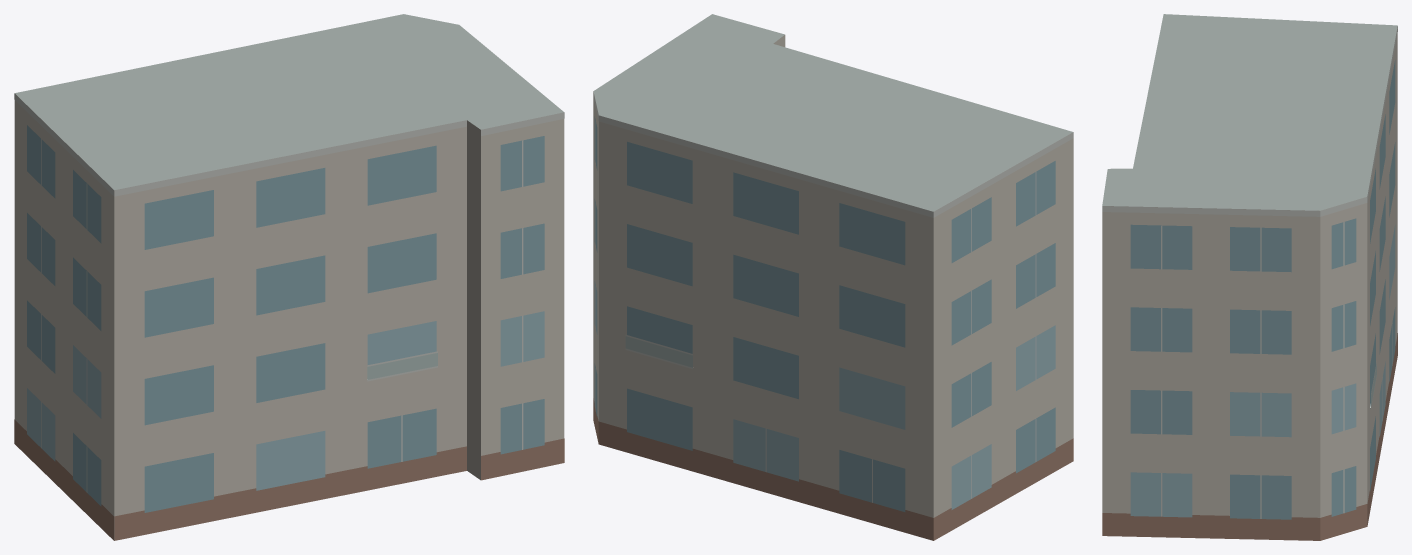
The model's file is survey-upis-32813056.glb.
3 renders of one model, left to right at view 1: azimuth 30°, elevation 25°; view 2: azimuth 150°, elevation 25°; view 3: azimuth 270°, elevation 25°, orthographic. The views are drawn at different scales.
Parts seen in each view (by area): view 1: survey-upis-32813056.tmp; view 2: survey-upis-32813056.tmp; view 3: survey-upis-32813056.tmp.
Part boxes in pixels (x1,y1,x2,y2): survey-upis-32813056.tmp: [14, 14, 564, 540]; survey-upis-32813056.tmp: [593, 14, 1073, 540]; survey-upis-32813056.tmp: [1102, 14, 1397, 540].
Size of the model in its own units: 16.89 by 13.2 by 10.72.
